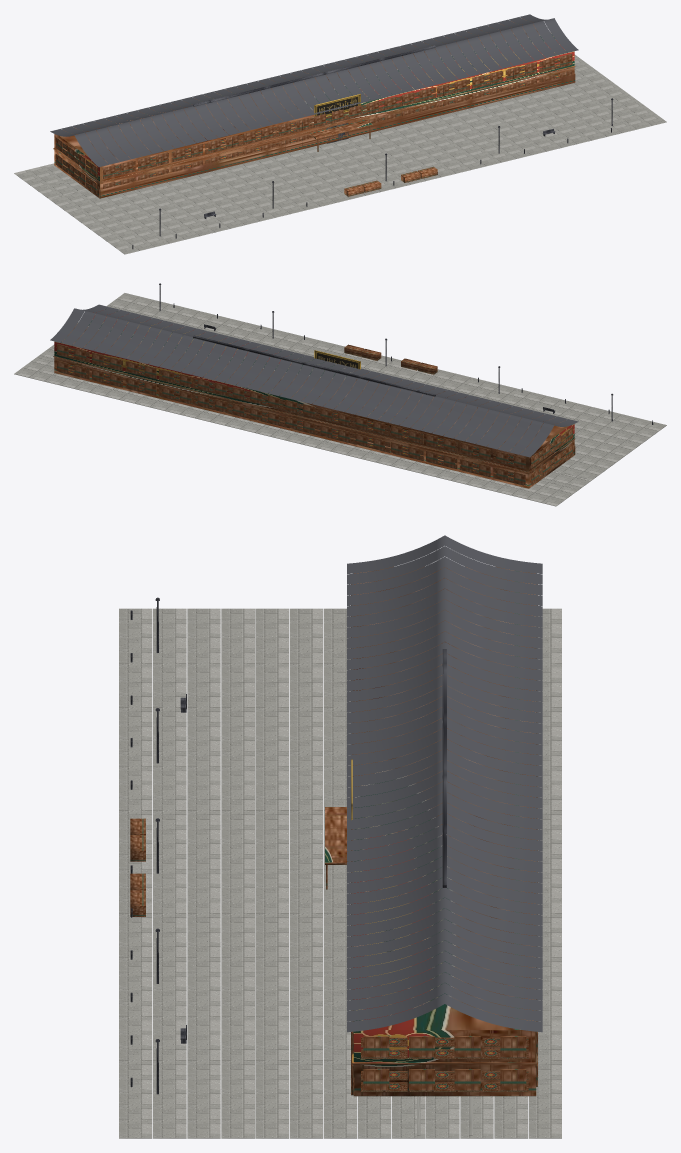
3 views of the same model, one above another, from view 1: azimuth 30°, elevation 25°; view 2: azimuth 150°, elevation 25°; view 3: azimuth 270°, elevation 25° (orthographic). The views are drawn at different scales.
Parts seen in each view (by area): view 1: 11140_02_04528_013_01__plinth_ground_base, 11140_02_04528_013_03__roof_deck_structure, 11140_02_04528_013_02__mass_body_facade, 11140_02_04528_013_05__window_sash_glass, 11140_02_04528_013_03__roof_metal_ornament, 11140_02_04528_013_06__landscape_greenery, 11140_02_04528_013_05__door_hardware_iron, 11140_02_04528_013_04__sign_board; view 2: 11140_02_04528_013_03__roof_deck_structure, 11140_02_04528_013_01__plinth_ground_base, 11140_02_04528_013_02__mass_body_facade, 11140_02_04528_013_03__roof_metal_ornament, 11140_02_04528_013_06__landscape_greenery, 11140_02_04528_013_05__door_hardware_iron, 11140_02_04528_013_04__sign_board; view 3: 11140_02_04528_013_01__plinth_ground_base, 11140_02_04528_013_03__roof_deck_structure, 11140_02_04528_013_02__mass_body_facade, 11140_02_04528_013_06__landscape_greenery, 11140_02_04528_013_05__door_hardware_iron, 11140_02_04528_013_03__roof_metal_ornament.
Part boxes in pixels (bbox=[...]): 11140_02_04528_013_01__plinth_ground_base: bbox=[14, 54, 666, 254]; 11140_02_04528_013_03__roof_deck_structure: bbox=[50, 14, 578, 166]; 11140_02_04528_013_02__mass_body_facade: bbox=[53, 18, 575, 198]; 11140_02_04528_013_05__window_sash_glass: bbox=[103, 53, 572, 188]; 11140_02_04528_013_03__roof_metal_ornament: bbox=[193, 45, 435, 106]; 11140_02_04528_013_06__landscape_greenery: bbox=[344, 166, 437, 196]; 11140_02_04528_013_05__door_hardware_iron: bbox=[132, 98, 613, 249]; 11140_02_04528_013_04__sign_board: bbox=[315, 95, 360, 116]; 11140_02_04528_013_03__roof_deck_structure: bbox=[50, 304, 578, 457]; 11140_02_04528_013_01__plinth_ground_base: bbox=[14, 293, 666, 506]; 11140_02_04528_013_02__mass_body_facade: bbox=[53, 309, 575, 488]; 11140_02_04528_013_03__roof_metal_ornament: bbox=[193, 335, 435, 396]; 11140_02_04528_013_06__landscape_greenery: bbox=[344, 344, 437, 374]; 11140_02_04528_013_05__door_hardware_iron: bbox=[159, 283, 653, 424]; 11140_02_04528_013_04__sign_board: bbox=[315, 351, 359, 369]; 11140_02_04528_013_01__plinth_ground_base: bbox=[119, 608, 561, 1138]; 11140_02_04528_013_03__roof_deck_structure: bbox=[347, 535, 542, 1032]; 11140_02_04528_013_02__mass_body_facade: bbox=[325, 566, 537, 1096]; 11140_02_04528_013_06__landscape_greenery: bbox=[130, 818, 145, 916]; 11140_02_04528_013_05__door_hardware_iron: bbox=[130, 597, 186, 1094]; 11140_02_04528_013_03__roof_metal_ornament: bbox=[442, 649, 446, 887].
Bounding box in the file's own units: 95.95 × 9.05 × 33.95.
Materials: 7 (7 with a texture image).
